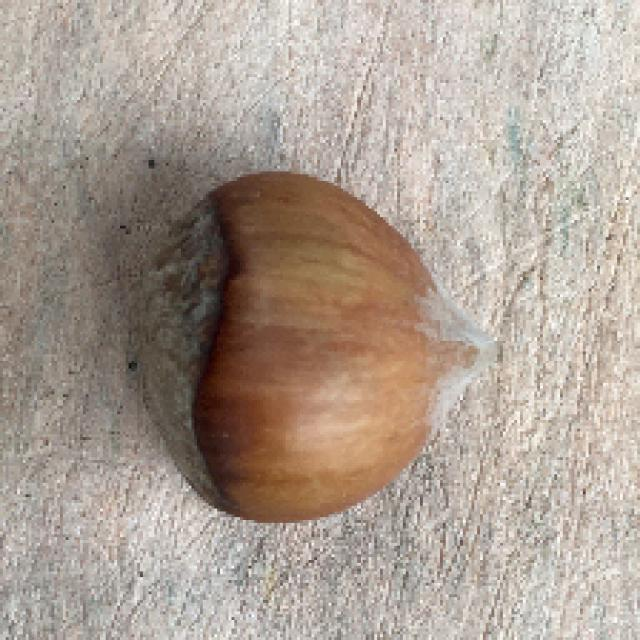QualityHazelnut: (138, 174, 500, 524)
